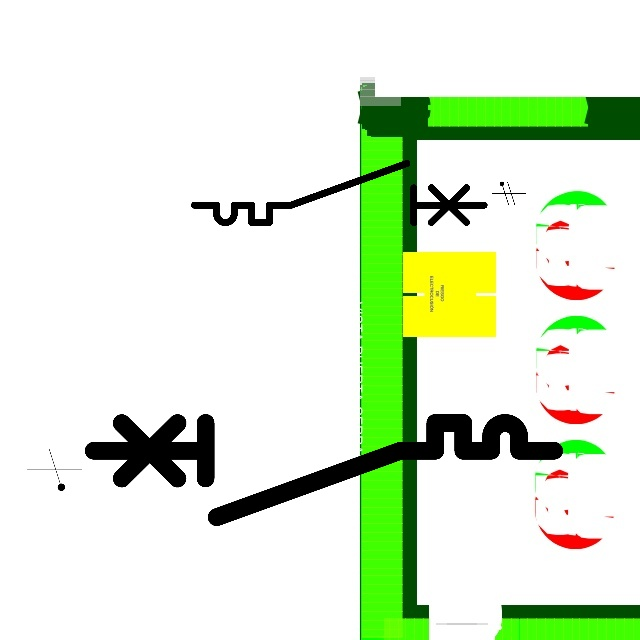interruptor_termomagnetico: (81, 411, 565, 529), (187, 156, 492, 230)
